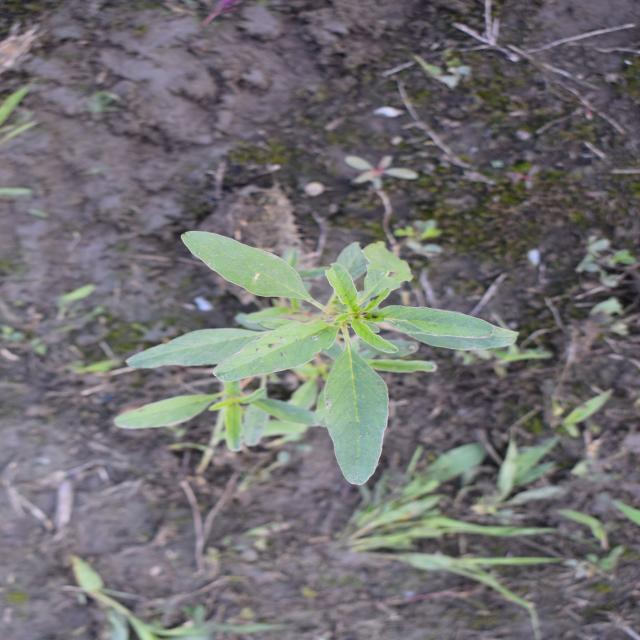Waterhemp: (109, 230, 522, 486)
